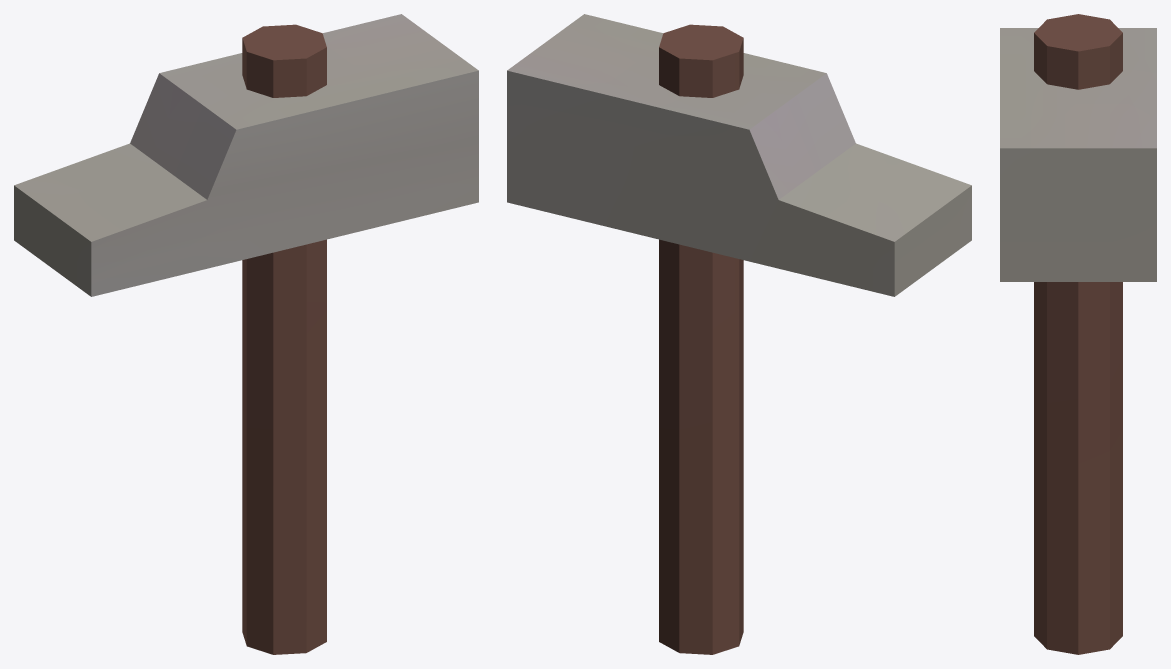
Rendered from Martillo.FBX.
3 views of the same model, side by side, from view 1: azimuth 30°, elevation 25°; view 2: azimuth 150°, elevation 25°; view 3: azimuth 270°, elevation 25° (orthographic).
Visible parts, largest first — view 1: Martillo; view 2: Martillo; view 3: Martillo.
Part boxes in pixels (<box>): Martillo: <box>14,14,478,654</box>; Martillo: <box>507,14,971,654</box>; Martillo: <box>1000,14,1156,654</box>.
Bounding box in the file's own units: 9.72 × 14.25 × 3.36.
